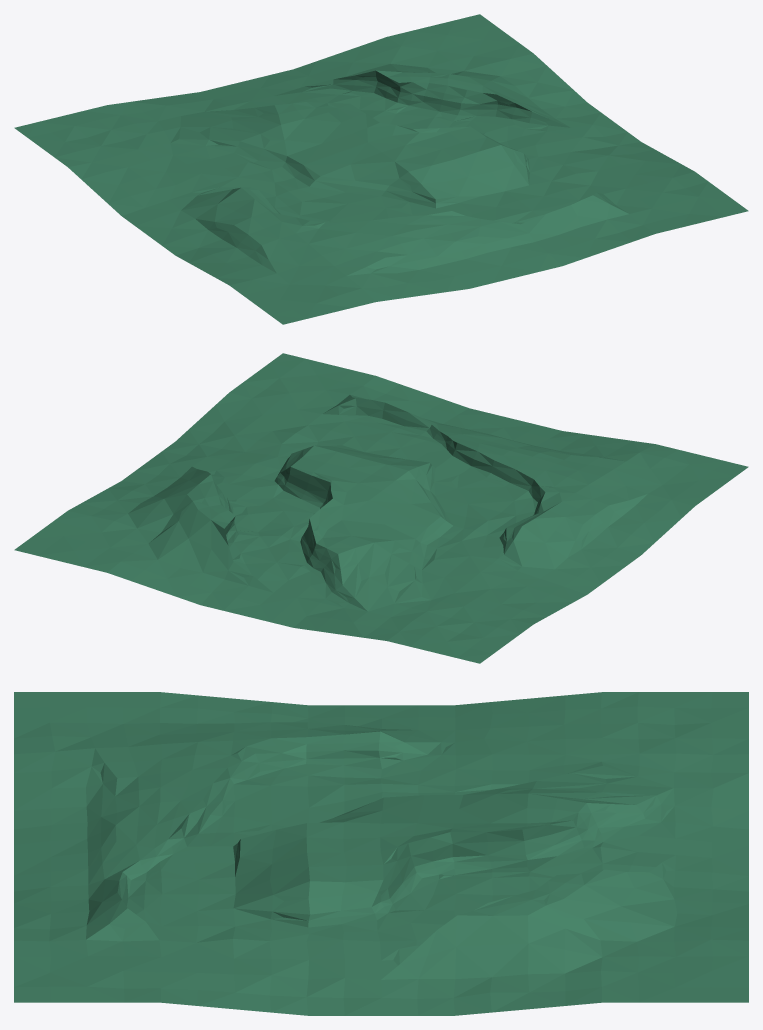
The model's file is Terrain_c_lush.FBX.
3 renders of one model, top to bottom at view 1: azimuth 30°, elevation 25°; view 2: azimuth 150°, elevation 25°; view 3: azimuth 270°, elevation 25°, orthographic. The views are drawn at different scales.
Parts seen in each view (by area): view 1: Terrain_c_lush; view 2: Terrain_c_lush; view 3: Terrain_c_lush.
Boxes of the visible parts, x1,y1,x2,y2 form: Terrain_c_lush: (14, 14, 748, 324); Terrain_c_lush: (14, 353, 748, 663); Terrain_c_lush: (14, 692, 748, 1015).
Bounding box in the file's own units: 100 × 6.73 × 100.
